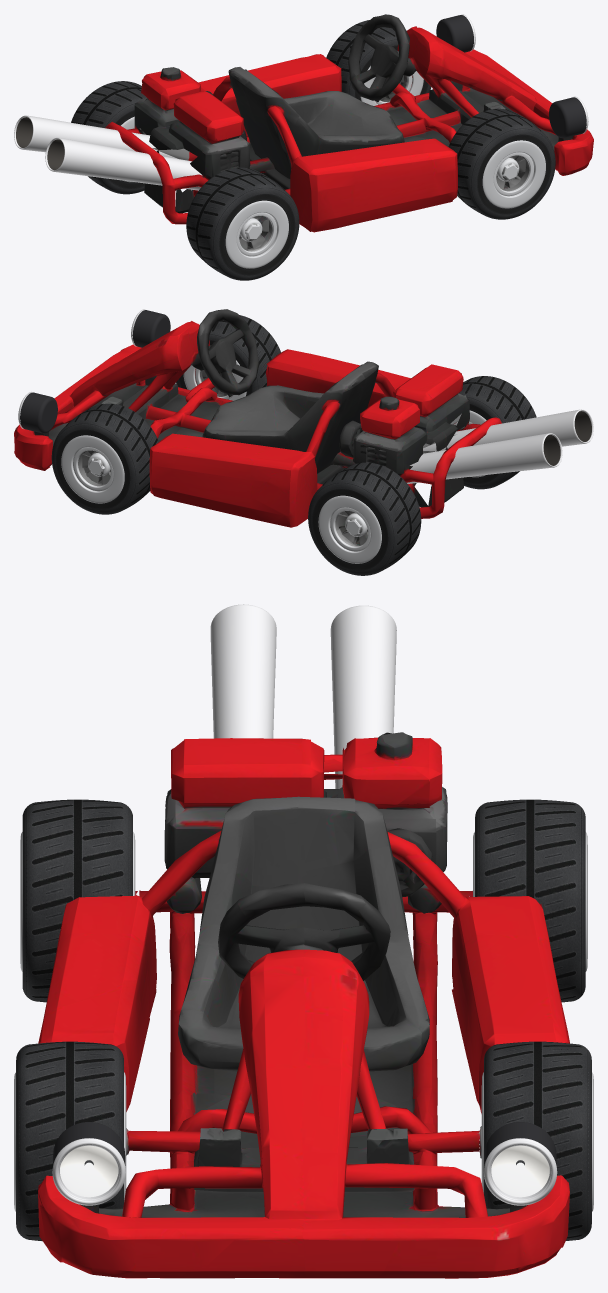
Rendered from kart.glb.
3 renders of one model, top to bottom at view 1: azimuth 30°, elevation 25°; view 2: azimuth 150°, elevation 25°; view 3: azimuth 270°, elevation 25°, orthographic. The views are drawn at different scales.
Visible parts, largest first — view 1: chassis, wheel_RR_tire, wheel_FR_tire, exhaust, wheel_RL_tire, wheel_FL_tire, headlight_R, headlight_L, wheel_RR, wheel_FR, wheel_RR_hubcap, wheel_FR_hubcap; view 2: chassis, wheel_RL_tire, wheel_FL_tire, exhaust, wheel_RR_tire, wheel_FR_tire, headlight_L, headlight_R, wheel_RL, wheel_FL, wheel_FL_hubcap, wheel_RL_hubcap; view 3: chassis, exhaust, wheel_RR_tire, wheel_RL_tire, wheel_FL_tire, wheel_FR_tire, headlight_R, headlight_L.
Part boxes in pixels (x1,y1,x2,y2): chassis: [105, 14, 593, 232]; wheel_RR_tire: [186, 167, 299, 280]; wheel_FR_tire: [448, 108, 555, 219]; exhaust: [14, 115, 202, 190]; wheel_RL_tire: [71, 81, 146, 194]; wheel_FL_tire: [326, 20, 431, 105]; headlight_R: [549, 96, 588, 138]; headlight_L: [436, 14, 475, 52]; wheel_RR: [239, 215, 277, 256]; wheel_FR: [496, 155, 534, 196]; wheel_RR_hubcap: [240, 218, 262, 241]; wheel_FR_hubcap: [497, 158, 519, 181]; chassis: [14, 309, 501, 527]; wheel_RL_tire: [308, 462, 421, 575]; wheel_FL_tire: [51, 403, 158, 514]; exhaust: [407, 409, 593, 483]; wheel_RR_tire: [450, 376, 536, 489]; wheel_FR_tire: [176, 315, 280, 400]; headlight_L: [18, 392, 57, 433]; headlight_R: [131, 309, 170, 347]; wheel_RL: [330, 509, 367, 551]; wheel_FL: [73, 449, 110, 491]; wheel_FL_hubcap: [88, 453, 110, 476]; wheel_RL_hubcap: [345, 513, 367, 536]; chassis: [38, 732, 569, 1278]; exhaust: [210, 604, 396, 788]; wheel_RR_tire: [20, 799, 135, 1002]; wheel_RL_tire: [473, 799, 587, 1002]; wheel_FL_tire: [481, 1041, 593, 1240]; wheel_FR_tire: [14, 1041, 126, 1241]; headlight_R: [52, 1122, 125, 1205]; headlight_L: [483, 1122, 557, 1205].
Bounding box in the file's own units: 0.9898 × 0.3004 × 0.5117.
Materials: 12 (5 with a texture image).
